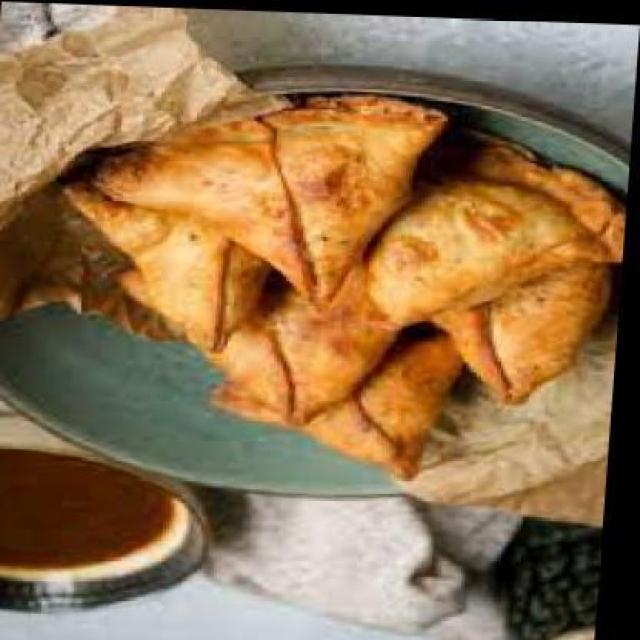samosa: (86, 81, 448, 312), (364, 121, 634, 328), (113, 242, 410, 424), (51, 177, 286, 354), (214, 318, 472, 477), (432, 249, 612, 403)
